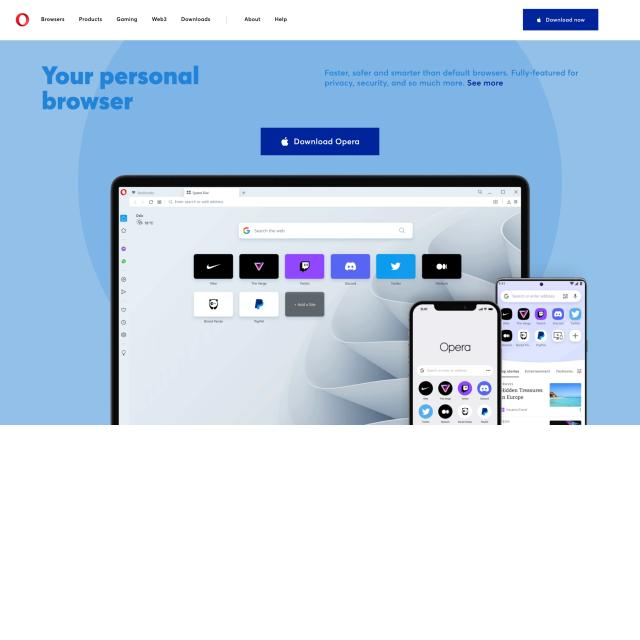CheckBox: (260, 128, 380, 154), (524, 9, 598, 30)
Input field: (320, 65, 585, 92)
bag: (0, 0, 639, 40)
card: (0, 41, 640, 424)
carousel: (280, 137, 290, 148), (536, 16, 542, 24)
data feed: (293, 137, 363, 148), (545, 16, 586, 24)
date picker: (14, 11, 30, 28)
decoration: (38, 13, 290, 26)
image: (37, 59, 206, 118)
